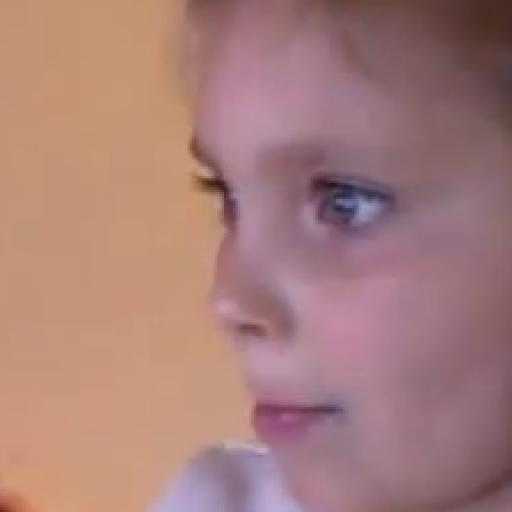Autism: (157, 11, 512, 484)
